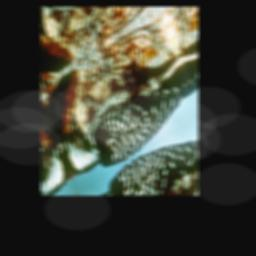Woodpecker: (43, 13, 197, 193)
